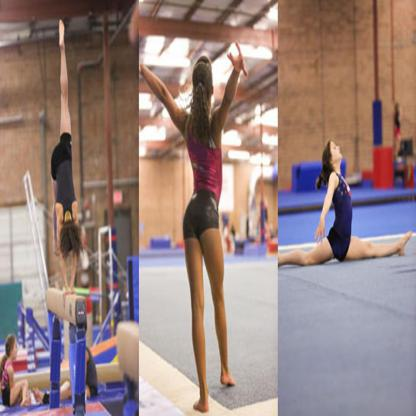face: (331, 142, 343, 158), (13, 342, 18, 359)
